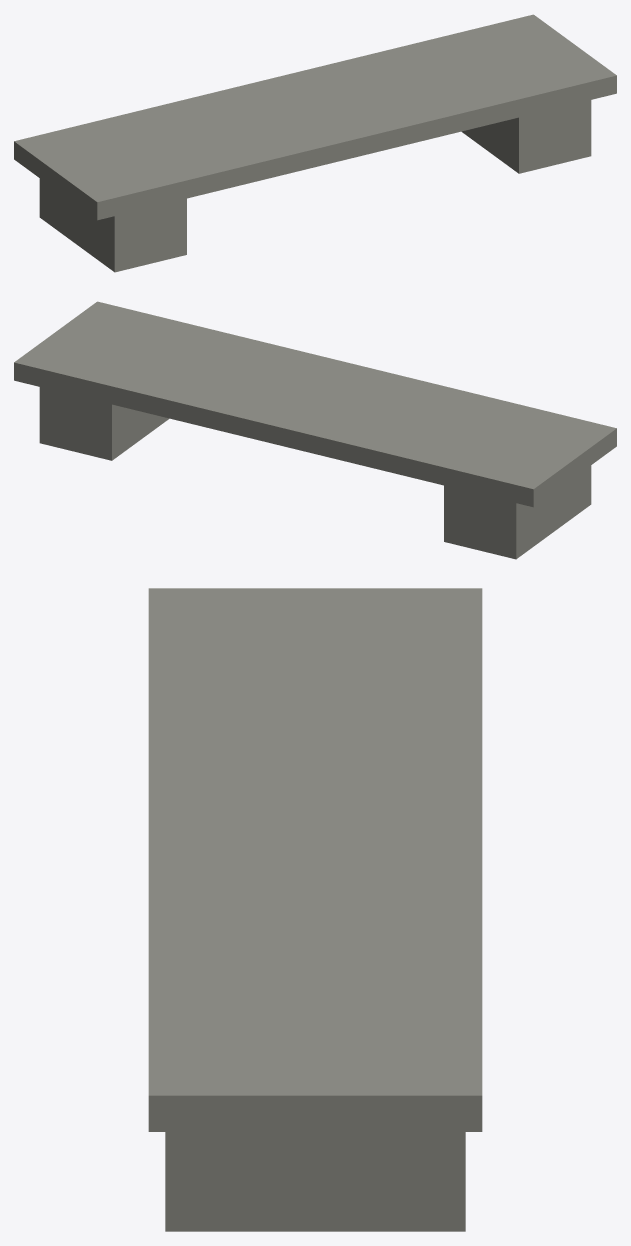
The model's file is SM_Banco_v1_LOD1.fbx.
3 renders of one model, top to bottom at view 1: azimuth 30°, elevation 25°; view 2: azimuth 150°, elevation 25°; view 3: azimuth 270°, elevation 25°, orthographic. The views are drawn at different scales.
Parts seen in each view (by area): view 1: SM_urbano_v11_LOD1; view 2: SM_urbano_v11_LOD1; view 3: SM_urbano_v11_LOD1.
Boxes of the visible parts, x1,y1,x2,y2 form: SM_urbano_v11_LOD1: (14, 14, 616, 272); SM_urbano_v11_LOD1: (14, 301, 616, 559); SM_urbano_v11_LOD1: (148, 588, 482, 1231).
Bounding box in the file's own units: 1.8 × 0.26 × 0.5.
